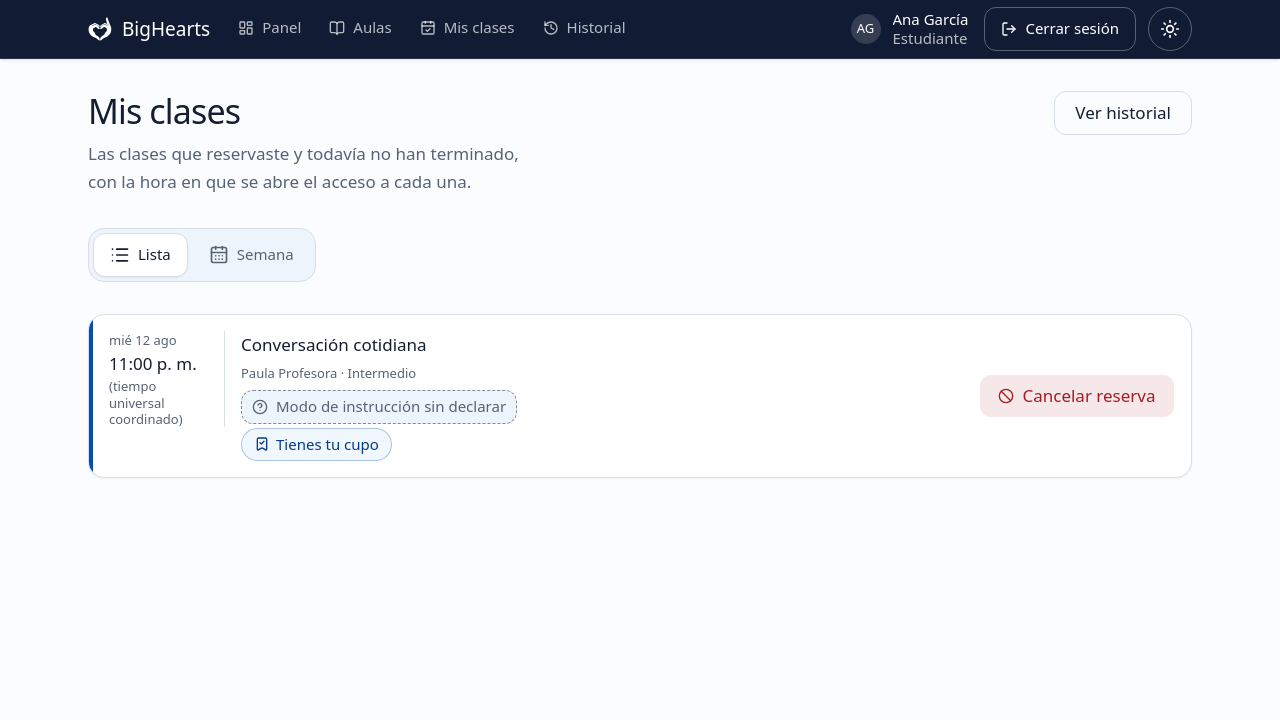
Test: MisClasesPage — cancelar una reserva (HU-303, T6/T7) › dentro de la ventana, ofrece cancelar y confirma antes de hacerlo
Step 1. Click the button "Cancelar reserva" → (1077, 396), box [979,374,1175,418]
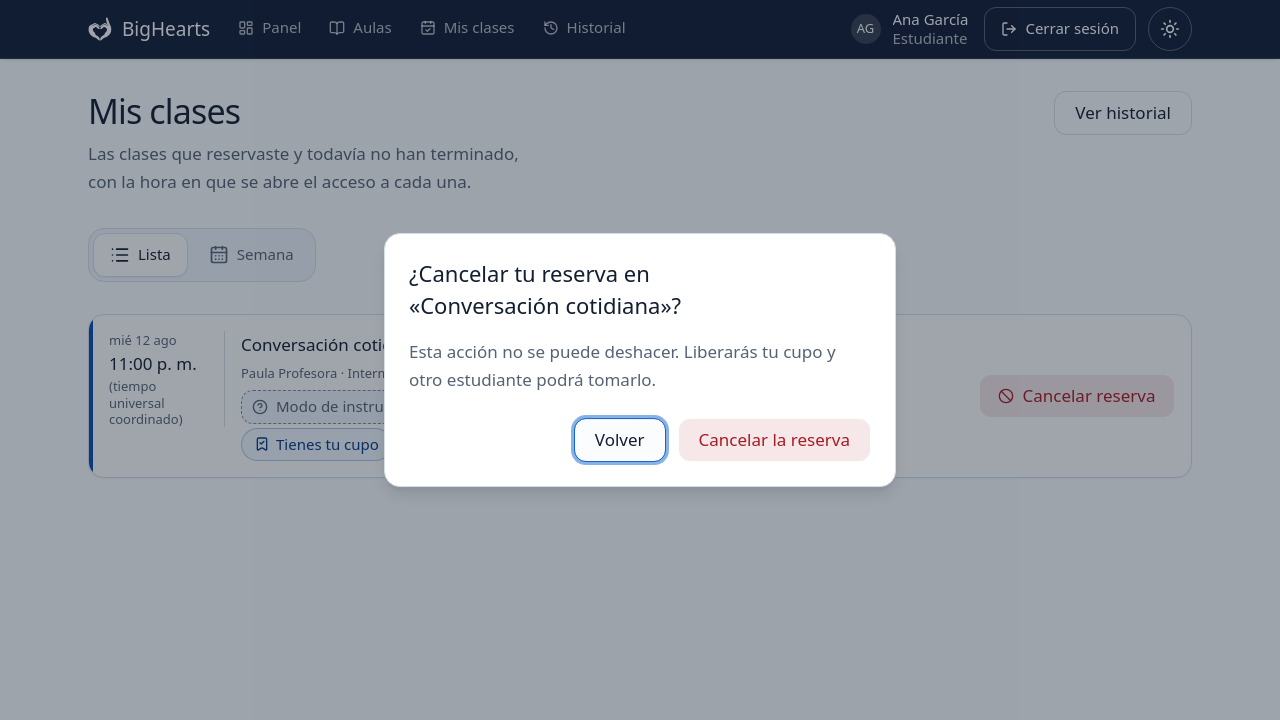
Now the heading "¿Cancelar tu reserva en «Conversación cotidiana»?" is shown, box [409,258,681,320]
